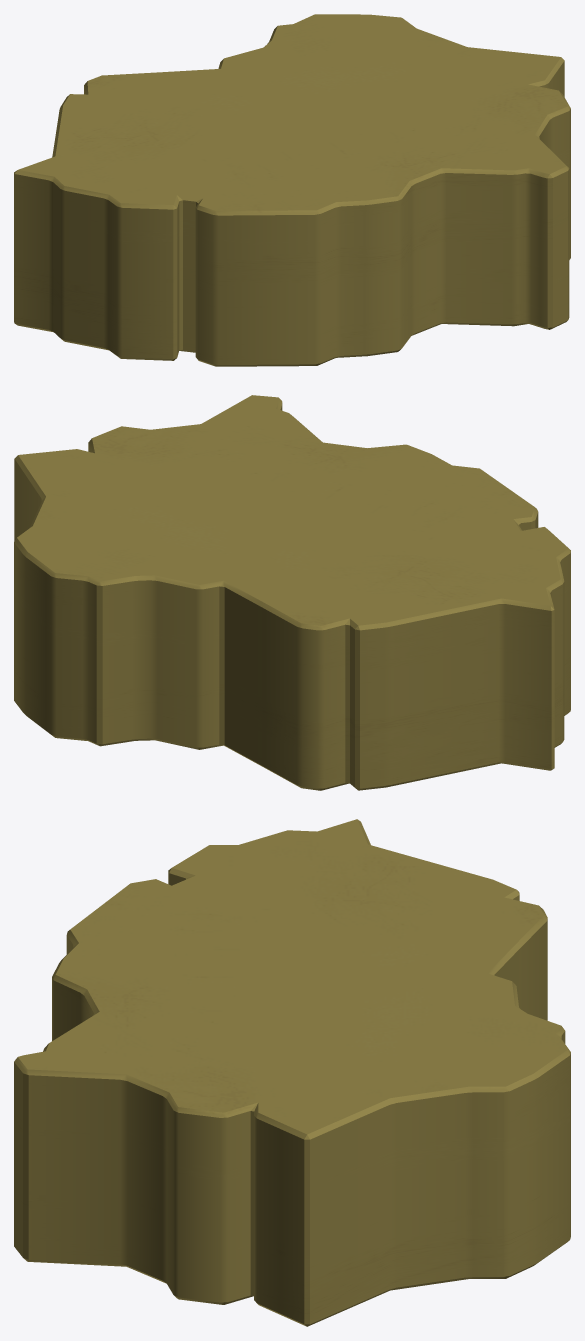
File: romania.DAE
3 views of the same model, one above another, from view 1: azimuth 30°, elevation 25°; view 2: azimuth 150°, elevation 25°; view 3: azimuth 270°, elevation 25° (orthographic). The views are drawn at different scales.
Visible parts, largest first — view 1: Romania; view 2: Romania; view 3: Romania.
Boxes of the visible parts, x1,y1,x2,y2 form: Romania: [14, 14, 570, 366]; Romania: [14, 395, 570, 790]; Romania: [14, 819, 570, 1326].
Size of the model in its own units: 88.84 by 65.61 by 25.
1 material, 1 textured.
